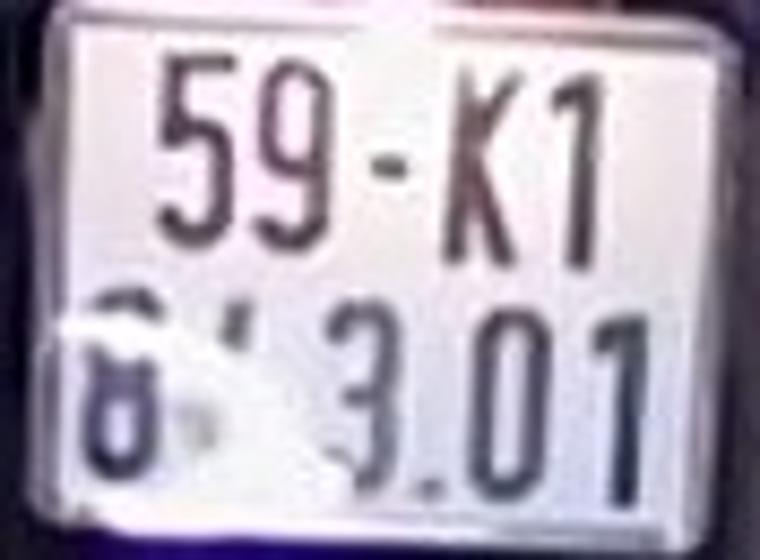0: (461, 290, 554, 504)
1: (543, 52, 618, 273), (587, 294, 659, 513)
3: (316, 282, 404, 499)
5: (153, 36, 240, 260)
8: (72, 271, 167, 481)
9: (250, 36, 338, 261)
K: (437, 53, 535, 277)
